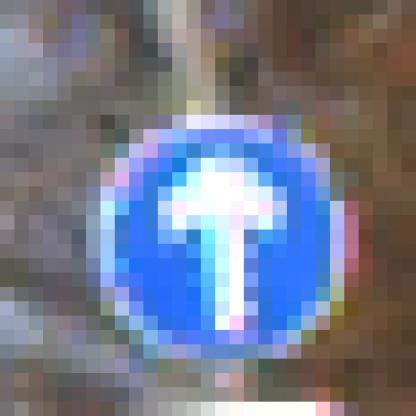straight: (72, 101, 359, 388)
